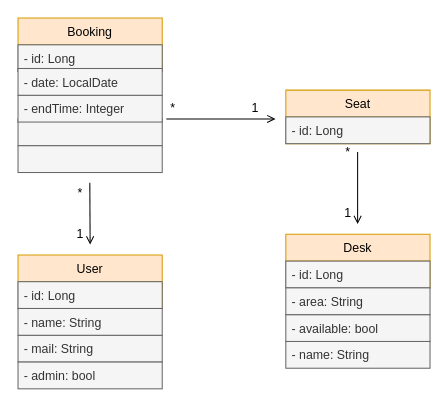
This 448x410 diagram has some shape labels left out. The shapes that lost their labels are listed below. From the top down, each one's centre as x and y in pixels, then its label:
(89,132): - startTime: Integer
(89,159): - state: String
